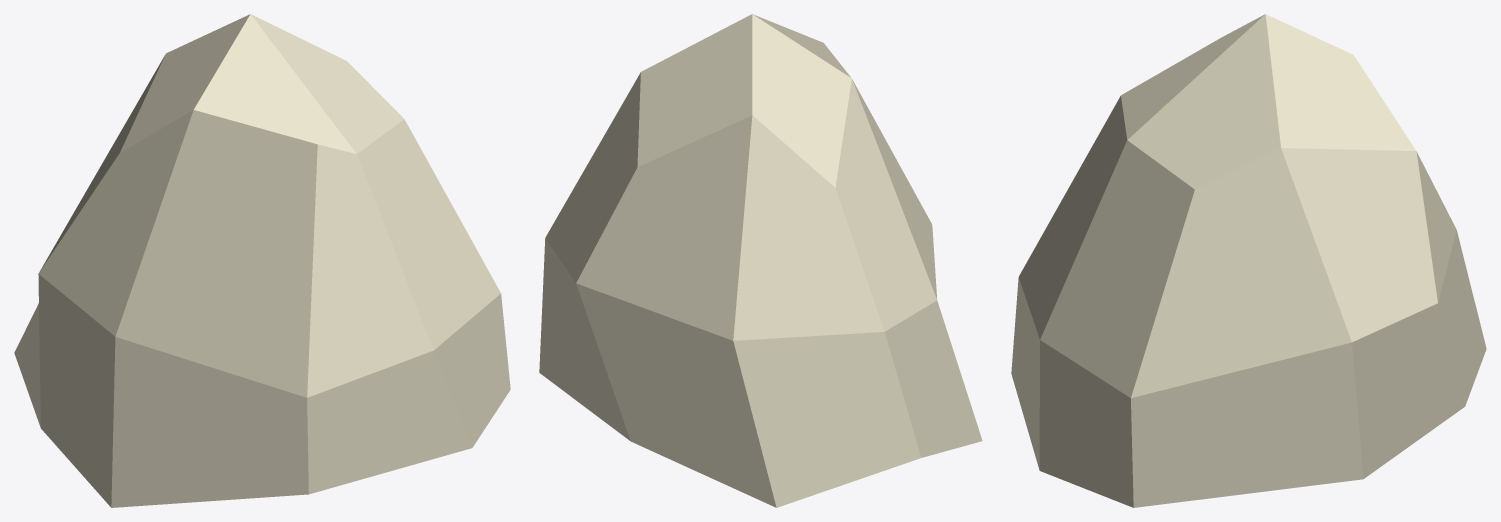
The model's file is Kamien1.fbx.
3 renders of one model, left to right at view 1: azimuth 30°, elevation 25°; view 2: azimuth 150°, elevation 25°; view 3: azimuth 270°, elevation 25°, orthographic. The views are drawn at different scales.
Visible parts, largest first — view 1: Kostka; view 2: Kostka; view 3: Kostka.
Part boxes in pixels (x1,y1,x2,y2): Kostka: [14, 14, 510, 507]; Kostka: [539, 14, 982, 507]; Kostka: [1011, 14, 1486, 507].
Size of the model in its own units: 478 by 491 by 488.
